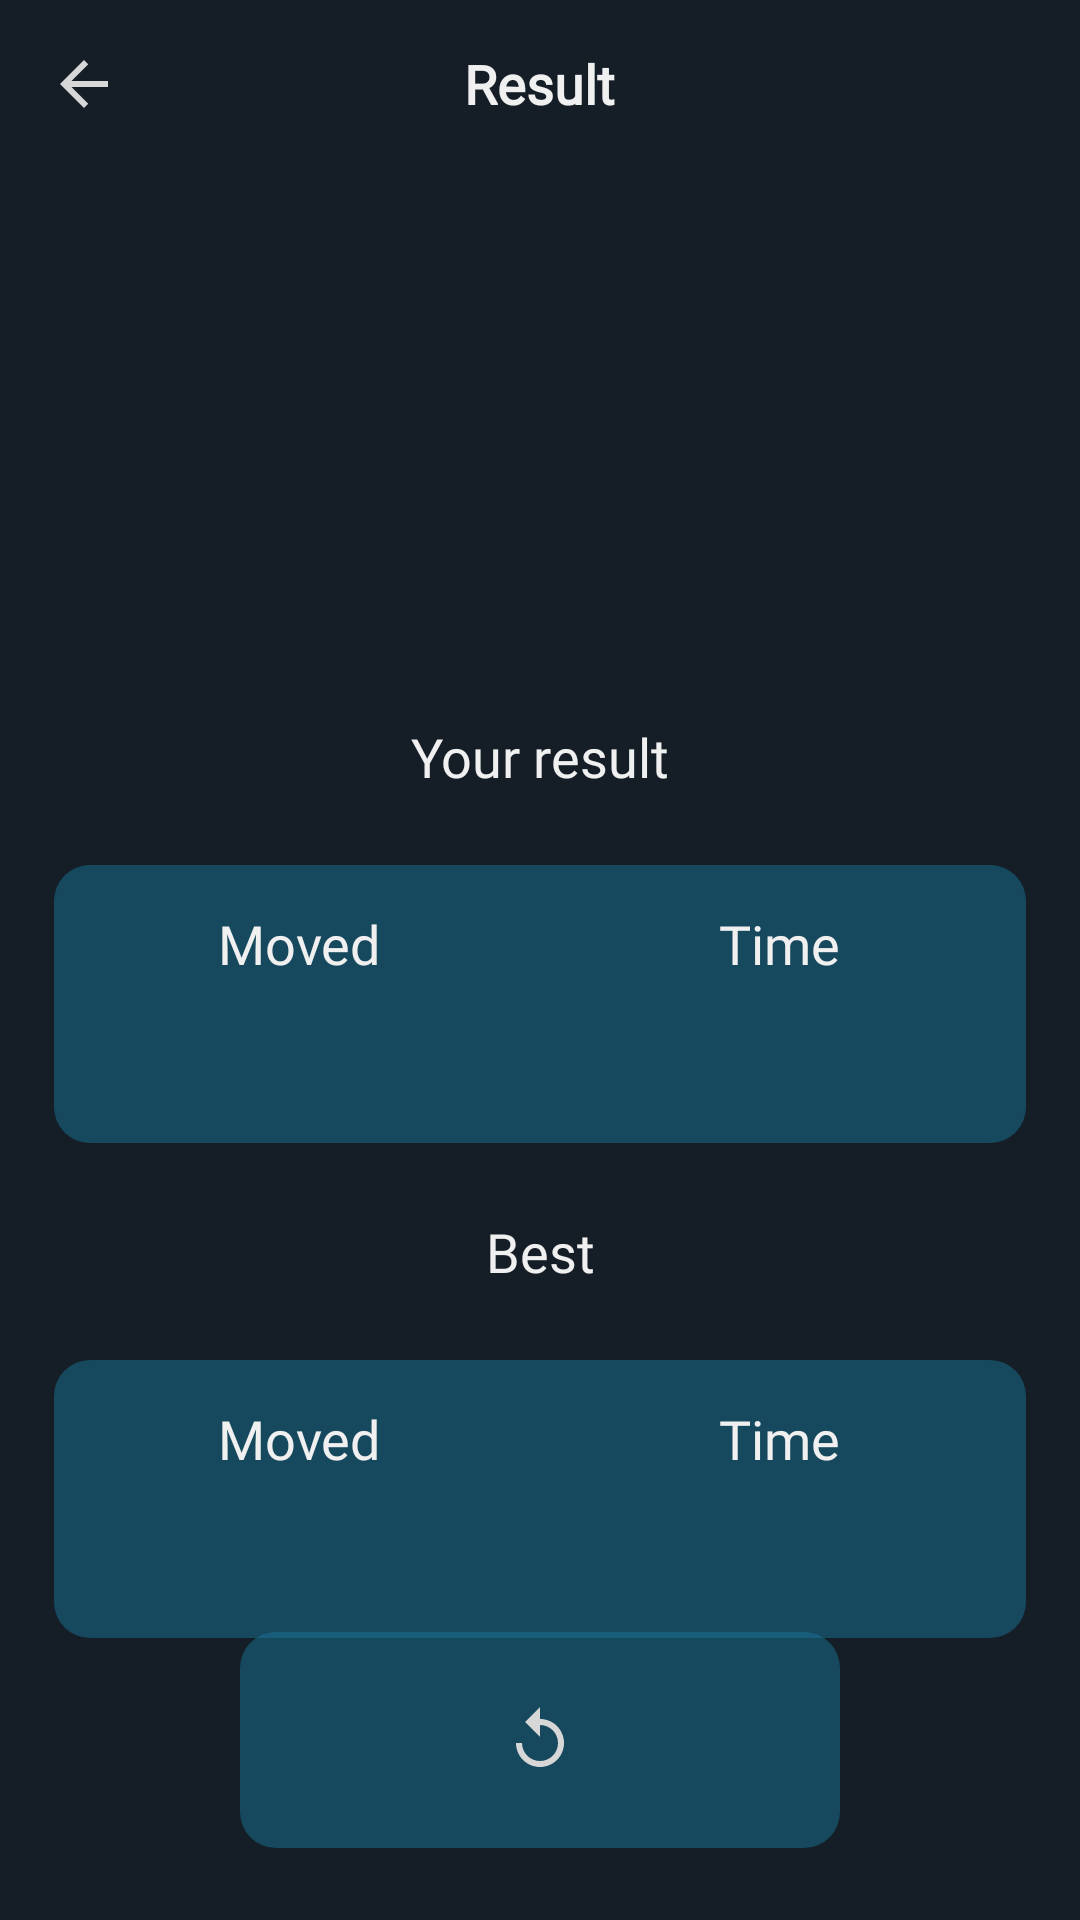

Where icons sit on this 1080 x 1920 app screen, as (x1, y1, x2, y2):
Navigate Up: (60, 60, 108, 108)
